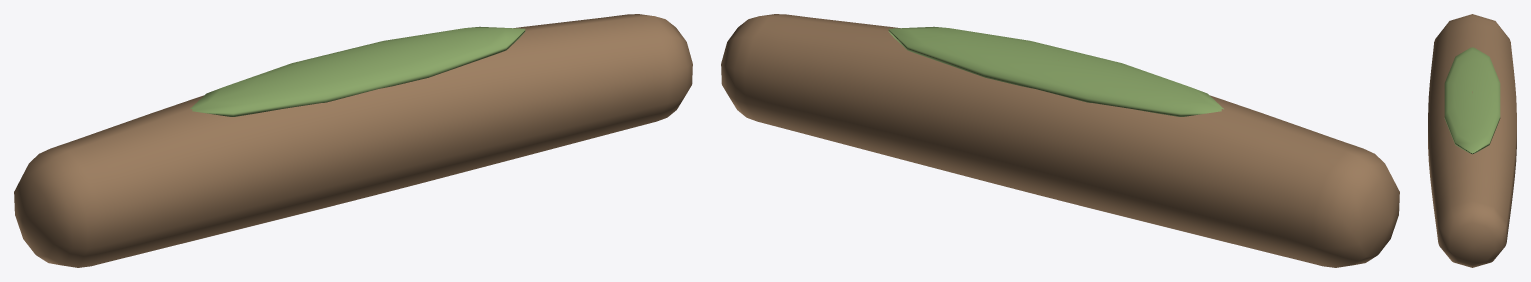
File: rainforest-and-jungle-fauna-fallen-mossy-log-58f7c663__21696.glb
3 views of the same model, side by side, from view 1: azimuth 30°, elevation 25°; view 2: azimuth 150°, elevation 25°; view 3: azimuth 270°, elevation 25° (orthographic). The views are drawn at different scales.
Visible parts, largest first — view 1: fallen-mossy-log; view 2: fallen-mossy-log; view 3: fallen-mossy-log.
Boxes of the visible parts, x1=… form: fallen-mossy-log: x1=14, y1=14, x2=692, y2=267; fallen-mossy-log: x1=721, y1=14, x2=1399, y2=267; fallen-mossy-log: x1=1428, y1=14, x2=1516, y2=267.
Size of the model in its own units: 2.78 by 0.5376 by 0.4999.
